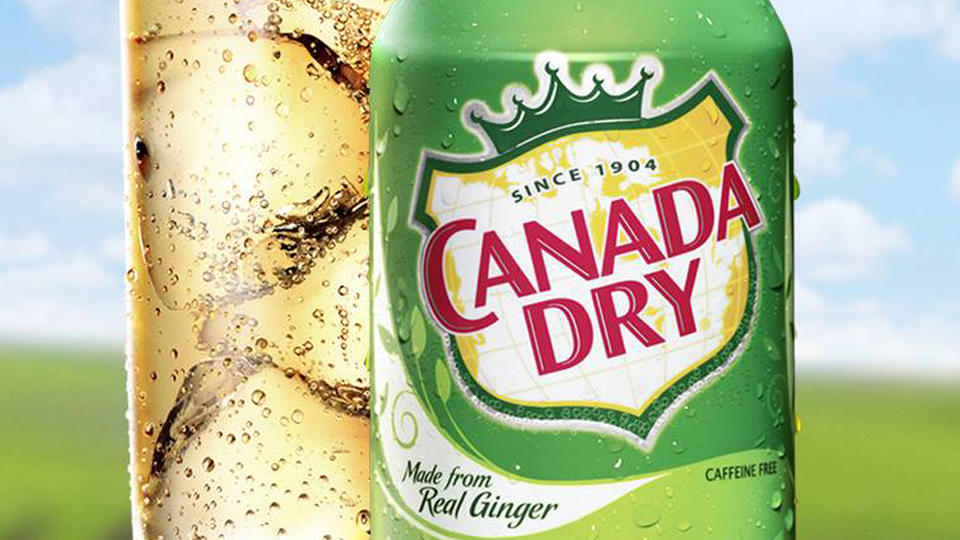Lata: (365, 1, 800, 537)
